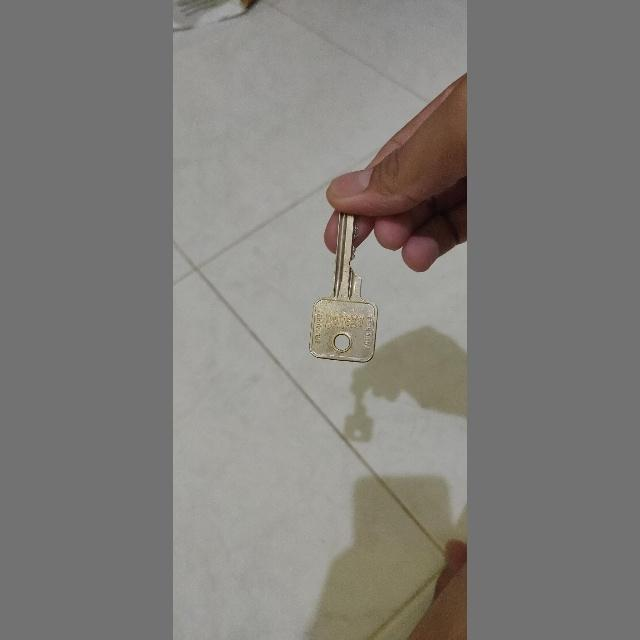Keys: (301, 190, 384, 374)
